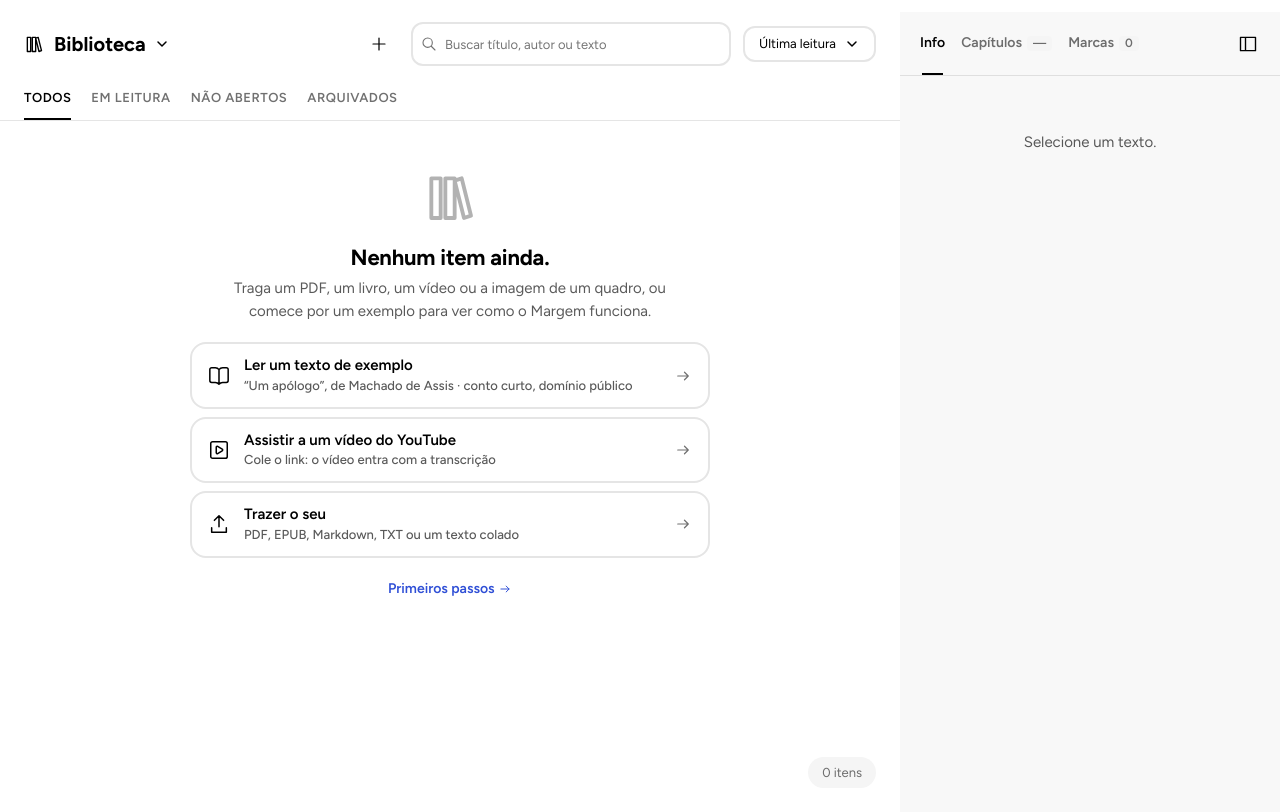
Scenario: instalação nova (nada ligado) › o filtro da biblioteca não oferece Quadros
Expected: the heading "Nenhum item ainda." is shown, [351, 244, 549, 271]
Click the dropdown labelled "Biblioteca" at {"x": 112, "y": 44}, box [54, 26, 170, 62]
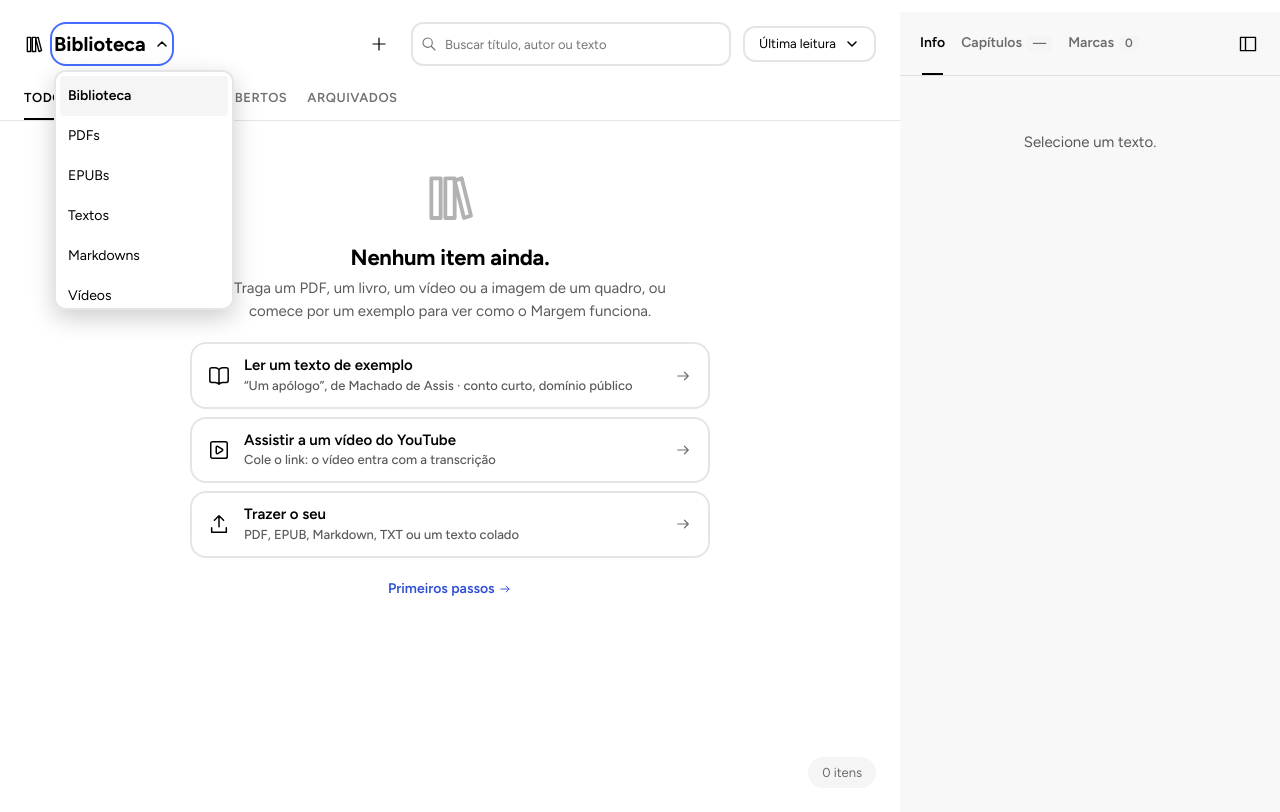
Expected: the option "PDFs" is shown, [68, 127, 100, 144]
